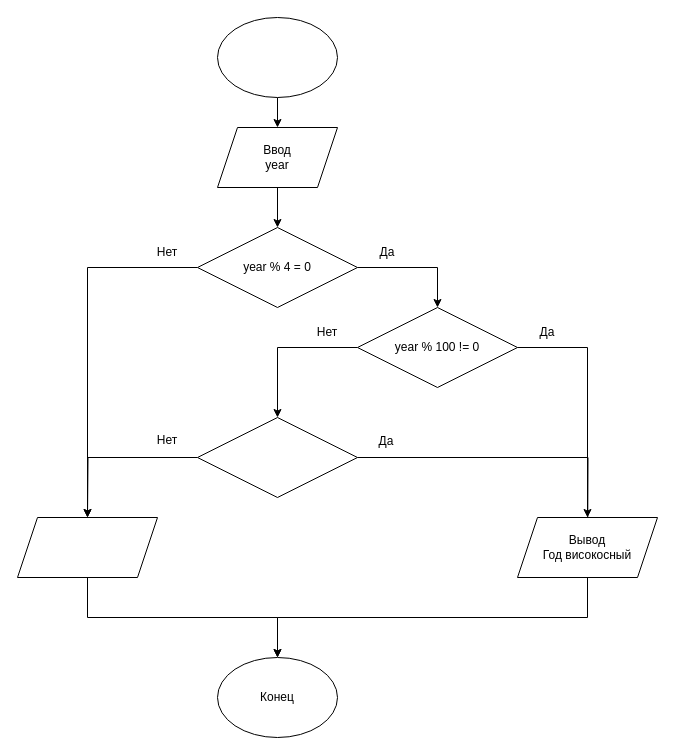
Image size: 675x755. Some labels were removed from this diagram. Here are the shapes that lost their labels. From the top down, the centre of each, then its label:
At point (277, 57): "Начало".
At point (277, 457): "year % 400 = 0".
At point (87, 547): "Вывод Год не високосный".
